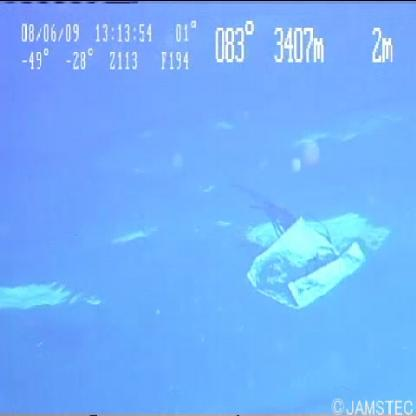Rác: (218, 180, 400, 325)
